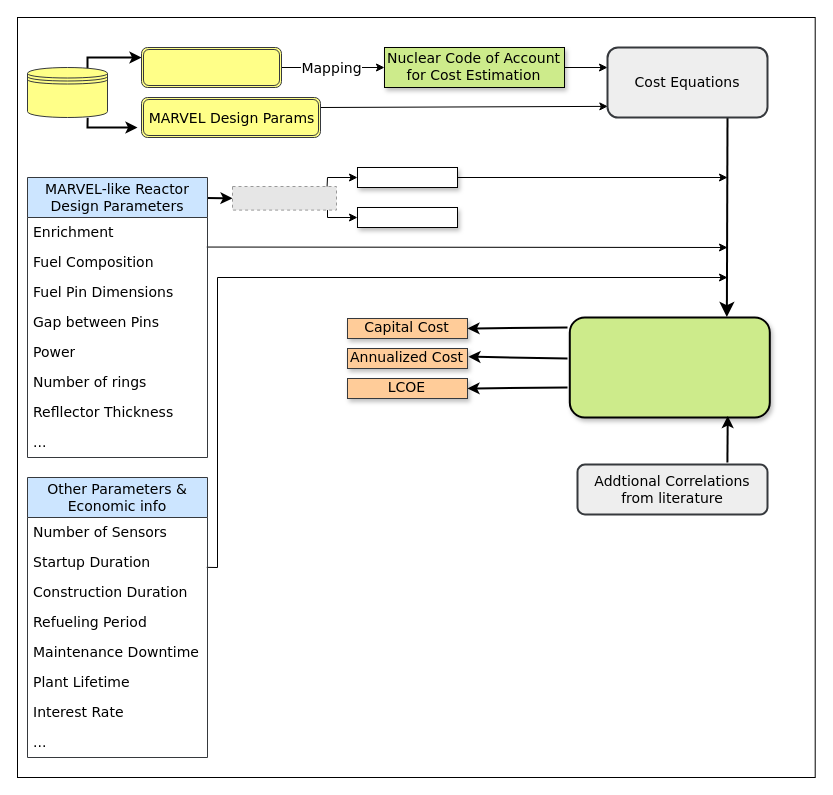
This 833x795 diagram has some shape labels left out. Grey dashed boxes stand in for pictures. Each missing label, with the centre of its shape:
Fuel lifetime: the point at 408,178
Heat Flux: the point at 408,218
MARVEL Cost: the point at 211,67
MARVEL Data: the point at 67,92
New Detailed Cost Esimtate for a MARVEL-like Reactor (Nuclear Code of Account): the point at 670,368
